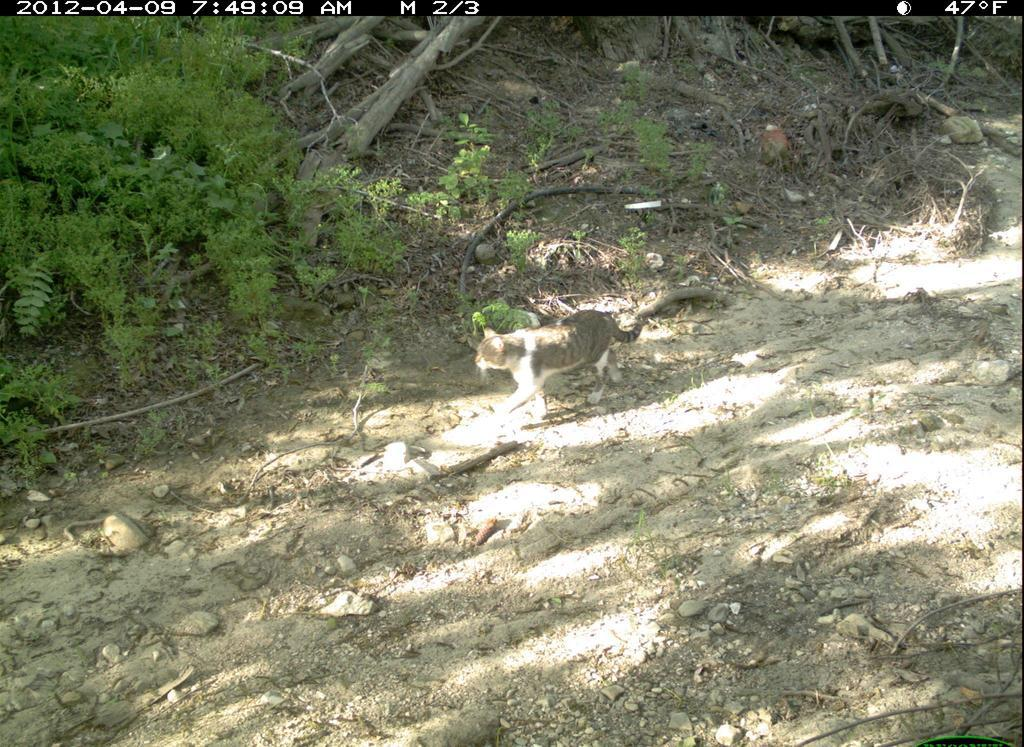cat: (466, 300, 661, 429)
